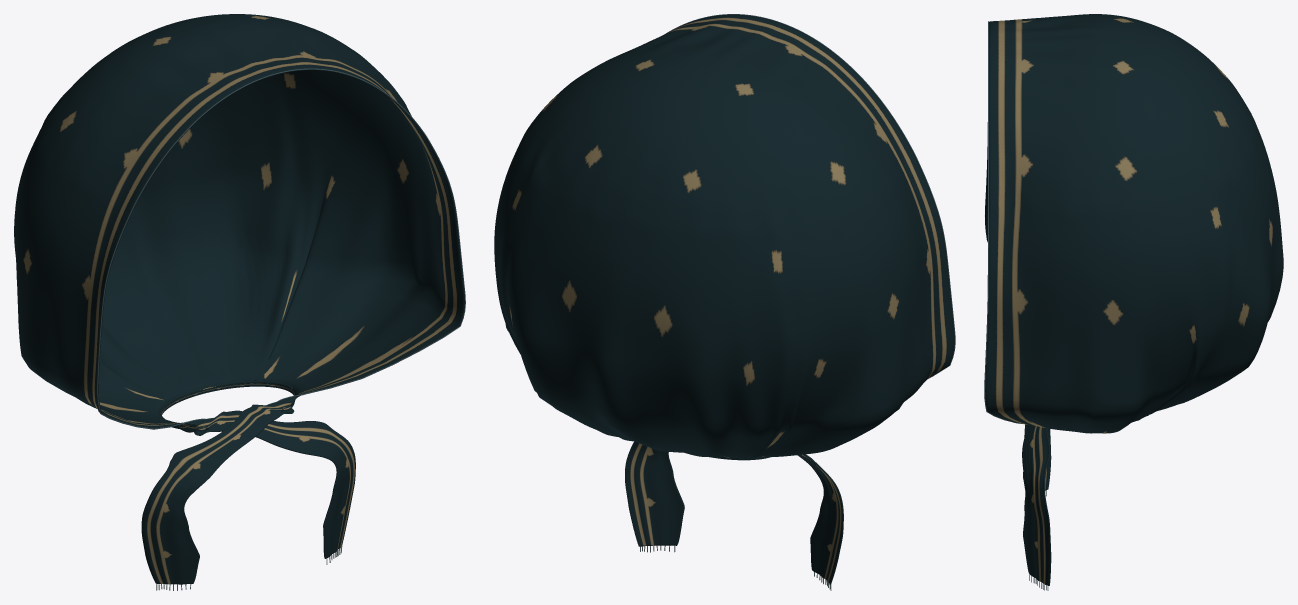
File: Masculine-shirtless-pashmina246-headgear.glb
The picture shows the model from 3 angles, left to right: view 1: azimuth 30°, elevation 25°; view 2: azimuth 150°, elevation 25°; view 3: azimuth 270°, elevation 25°; orthographic projection. The views are drawn at different scales.
Parts seen in each view (by area): view 1: 226 headgear / Headwear / continuous woven pashmina239, 226 headgear / Headwear / face edge239; view 2: 226 headgear / Headwear / continuous woven pashmina239, 226 headgear / Headwear / face edge239; view 3: 226 headgear / Headwear / continuous woven pashmina239, 226 headgear / Headwear / face edge239.
Part boxes in pixels (x1,y1,x2,y2): 226 headgear / Headwear / continuous woven pashmina239: [14, 14, 464, 584]; 226 headgear / Headwear / face edge239: [97, 68, 465, 429]; 226 headgear / Headwear / continuous woven pashmina239: [494, 14, 954, 584]; 226 headgear / Headwear / face edge239: [666, 14, 955, 378]; 226 headgear / Headwear / continuous woven pashmina239: [985, 14, 1283, 585]; 226 headgear / Headwear / face edge239: [984, 21, 1021, 423].
Bounding box in the file's own units: 1.03 × 1.35 × 0.7127.
Materials: 3 (1 with a texture image).
